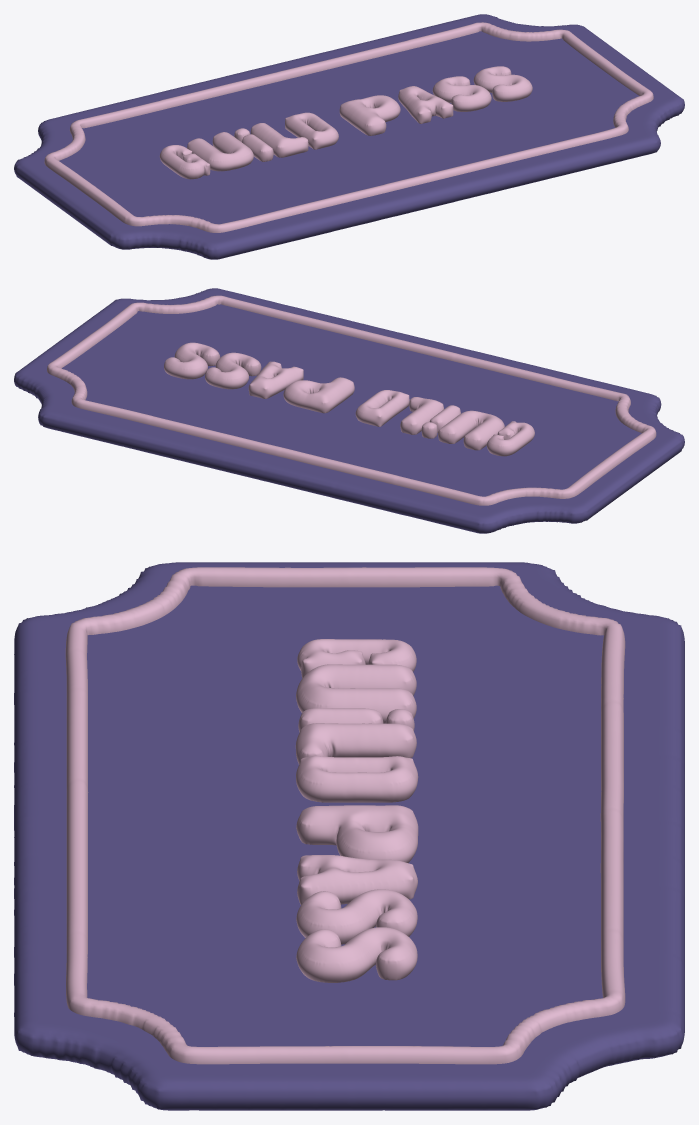
File: basic_guild_pass-transformed.glb
3 views of the same model, one above another, from view 1: azimuth 30°, elevation 25°; view 2: azimuth 150°, elevation 25°; view 3: azimuth 270°, elevation 25° (orthographic). The views are drawn at different scales.
Visible parts, largest first — view 1: Curve, Curve.001; view 2: Curve, Curve.001; view 3: Curve, Curve.001.
Boxes of the visible parts, <box> form: Curve: <box>14,14,684,259</box>; Curve.001: <box>44,22,653,232</box>; Curve: <box>14,288,684,533</box>; Curve.001: <box>47,295,656,505</box>; Curve: <box>14,562,684,1110</box>; Curve.001: <box>65,567,625,1064</box>.
Size of the model in its own units: 3.49 by 0.1787 by 1.87.
